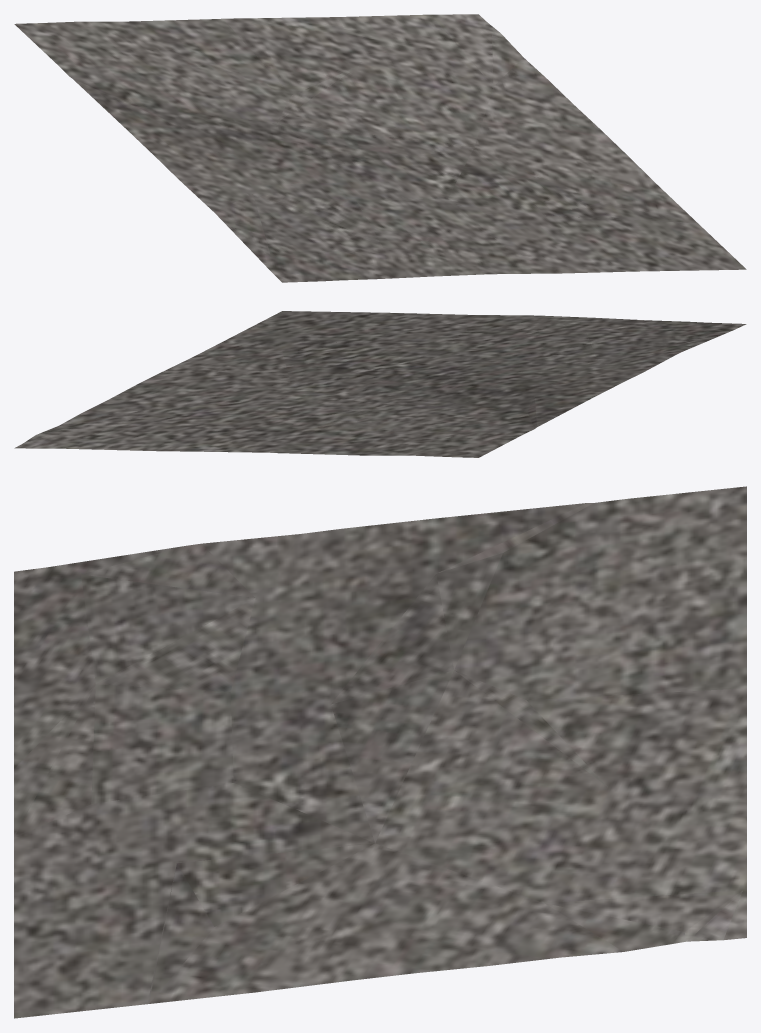
The picture shows the model from 3 angles, top to bottom: view 1: azimuth 30°, elevation 25°; view 2: azimuth 150°, elevation 25°; view 3: azimuth 270°, elevation 25°; orthographic projection. The views are drawn at different scales.
Size of the model in its own units: 0.8373 by 0.2803 by 0.8374.
Materials: 3 (3 with a texture image).
